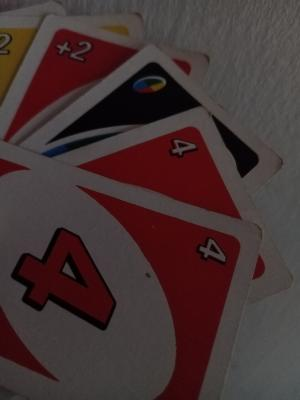-2: (48, 31, 97, 73)
colour: (125, 71, 173, 103)
num_2: (0, 23, 19, 62)
num_4: (163, 131, 203, 165)
